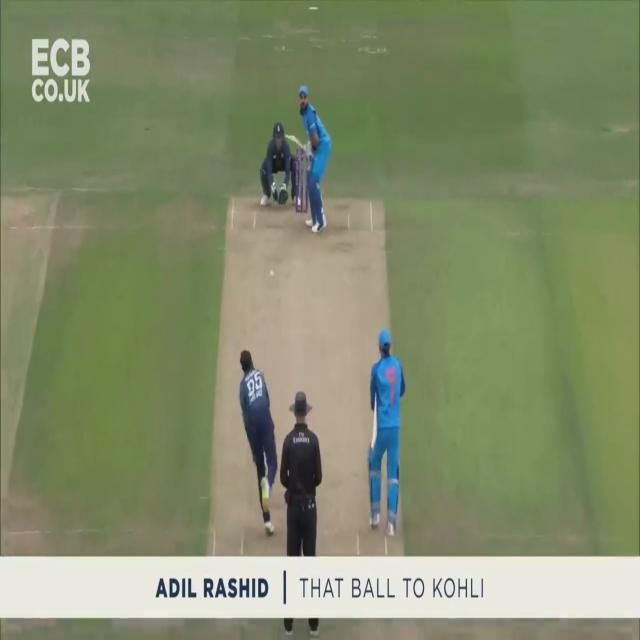cricketBall: (270, 270, 274, 277)
